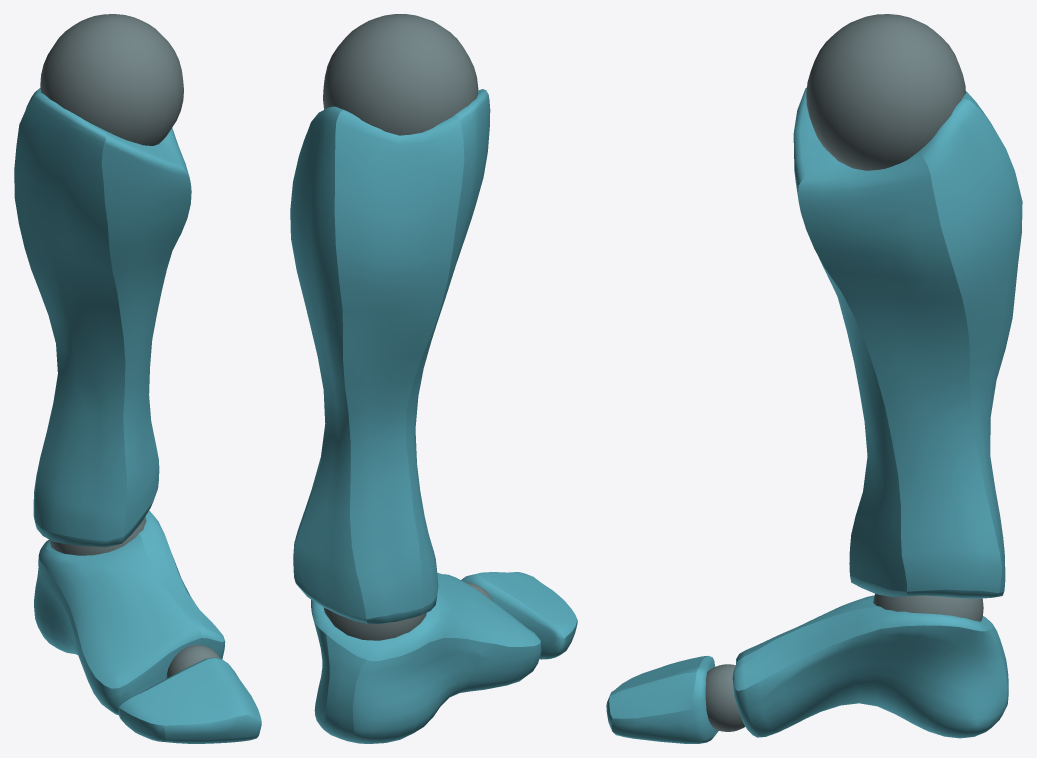
The model's file is leg.r.gltf.
3 renders of one model, left to right at view 1: azimuth 30°, elevation 25°; view 2: azimuth 150°, elevation 25°; view 3: azimuth 270°, elevation 25°, orthographic. The views are drawn at different scales.
Visible parts, largest first — view 1: leg.r; view 2: leg.r; view 3: leg.r.
Boxes of the visible parts, bbox=[...] form: leg.r: bbox=[14, 14, 261, 743]; leg.r: bbox=[290, 14, 577, 743]; leg.r: bbox=[606, 14, 1022, 743].
Size of the model in its own units: 0.2889 by 1.17 by 0.6231.
